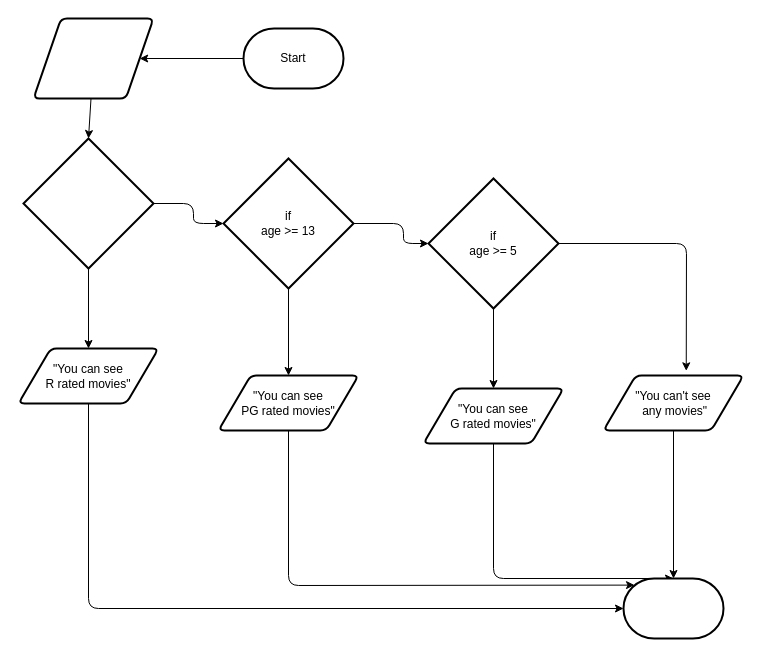
Some shapes in this 761 by 656 pixel diagram are drawn without their labels. Each missing label, with the centre of its shape:
"if age >= 17" goes at (x=88, y=203).
"Stop" goes at (x=673, y=608).
"user enter their age" goes at (x=93, y=58).
